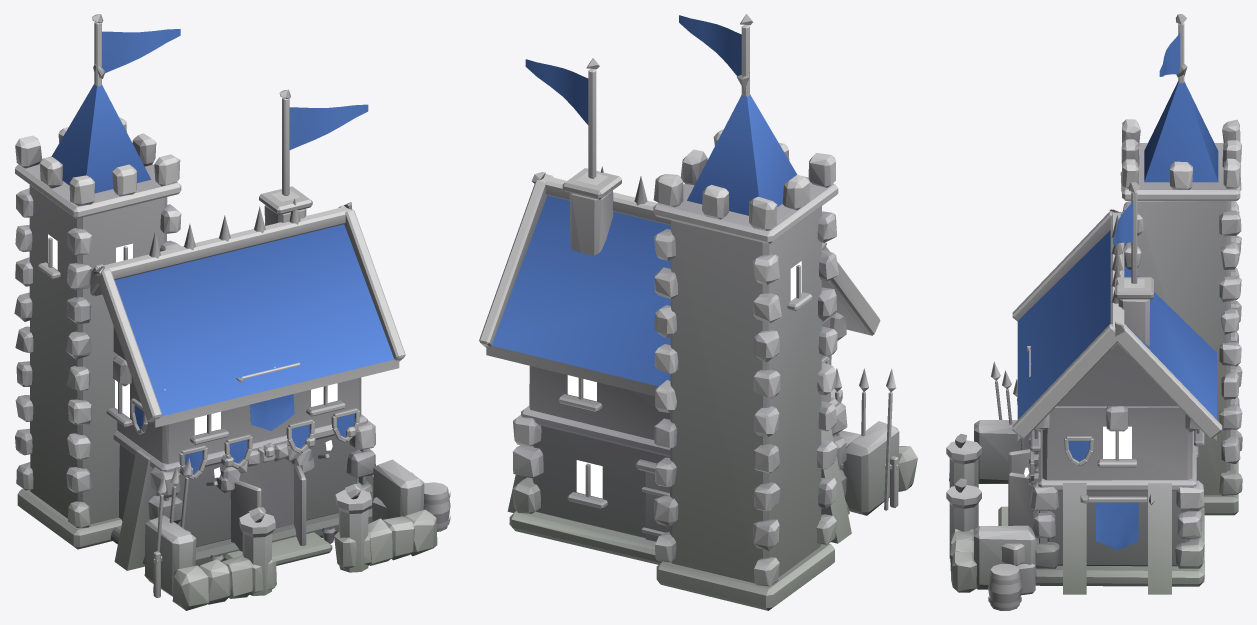
The model's file is barracks_1_10.glb.
3 renders of one model, left to right at view 1: azimuth 30°, elevation 25°; view 2: azimuth 150°, elevation 25°; view 3: azimuth 270°, elevation 25°, orthographic. The views are drawn at different scales.
Parts seen in each view (by area): view 1: Tower; view 2: Tower; view 3: Tower.
Part boxes in pixels (bbox=[...]): Tower: bbox=[14, 14, 450, 610]; Tower: bbox=[479, 14, 917, 610]; Tower: bbox=[946, 14, 1242, 610].
Size of the model in its own units: 4.03 by 6.23 by 3.48.
